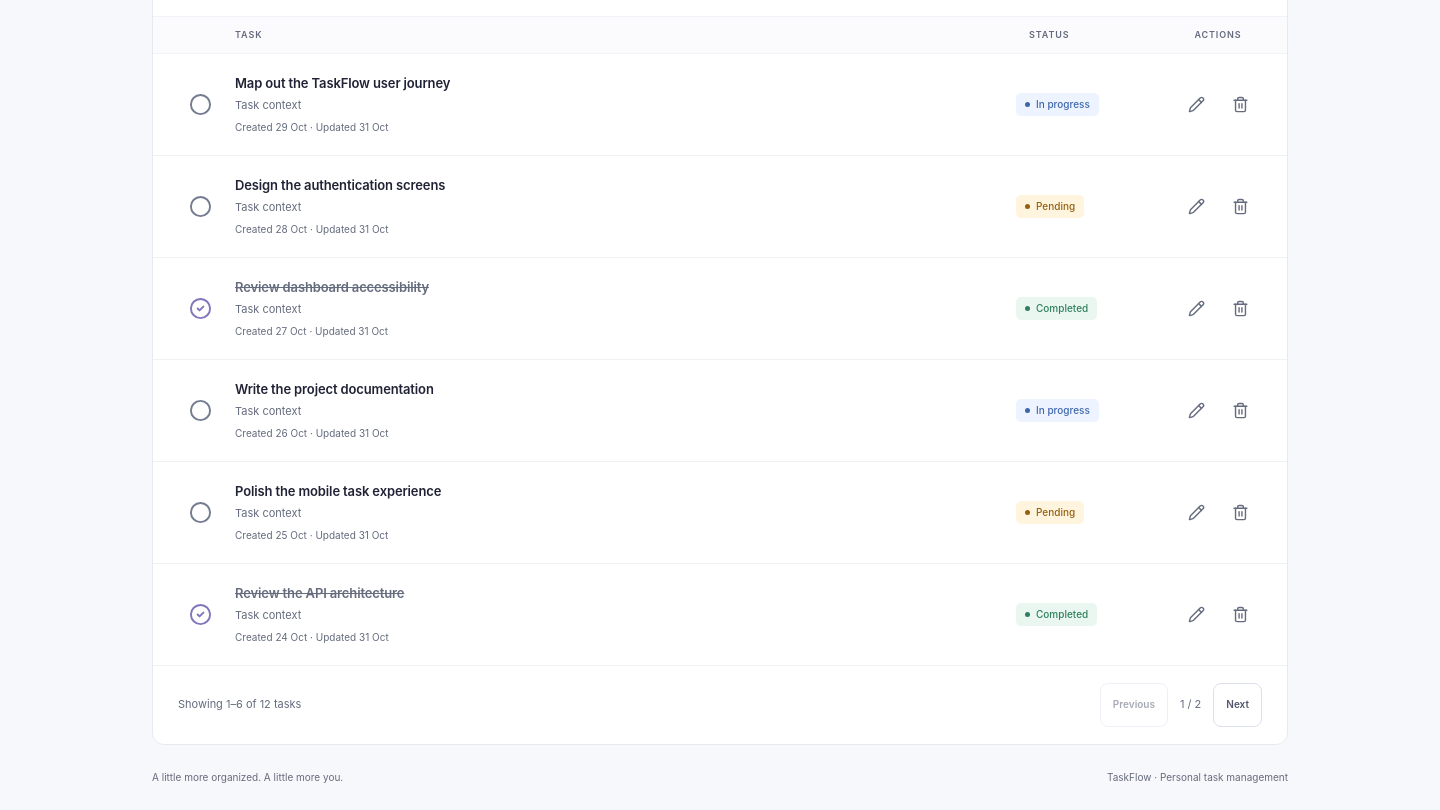
Test: clears private UI on protected request 401 and explains session expiry
The image size is (1440, 810).
(page scrolled)
Expected: the list named "Tasks" is shown, [153,54,1287,666]
Click the button "Next". click: (1238, 704)
box: [1213,682,1262,726]
(page scrolled)
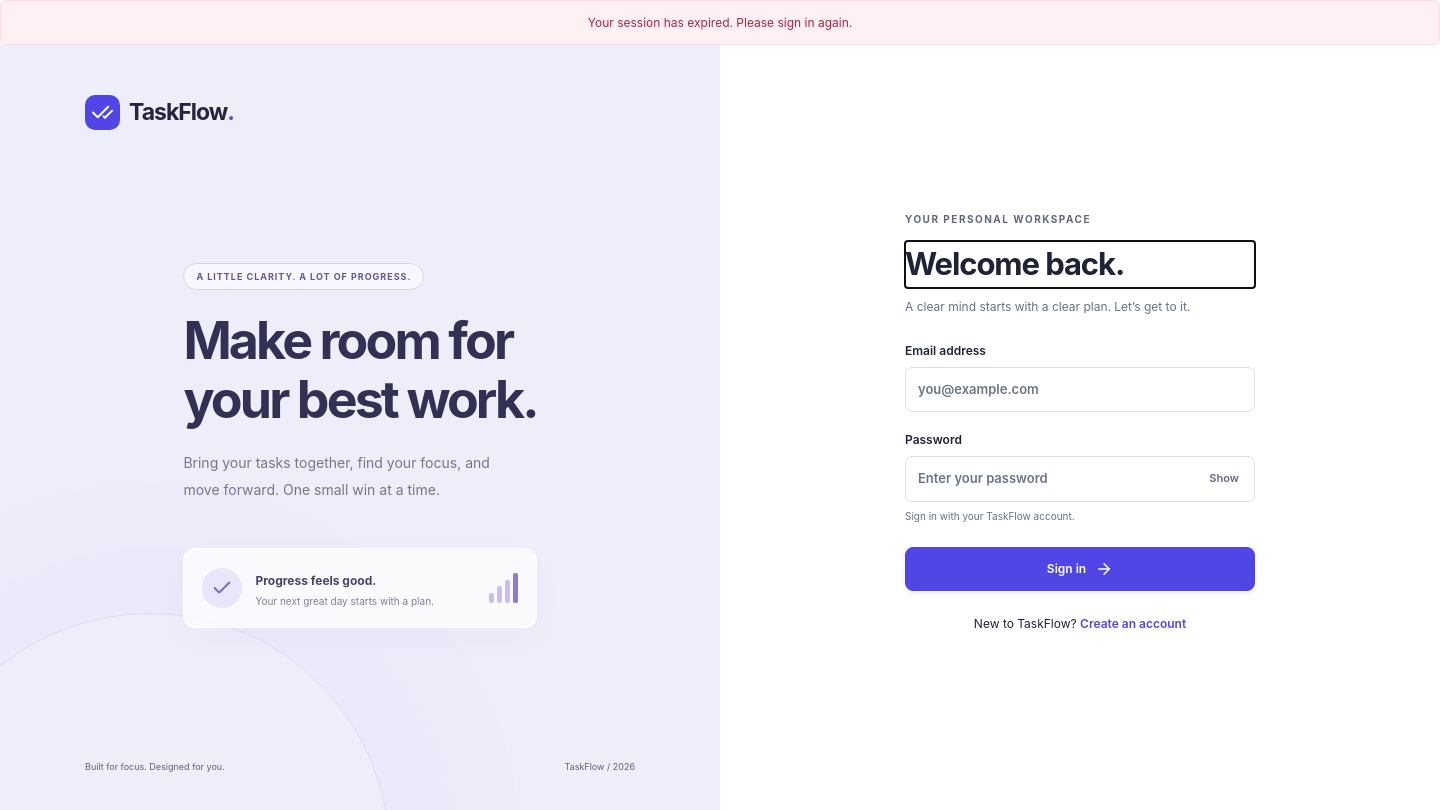
Expected: the heading "Welcome back." is shown, [905,245,1124,282]
Expected: the message reads "Your session has expired. Please sign in again.", [588,15,852,30]
